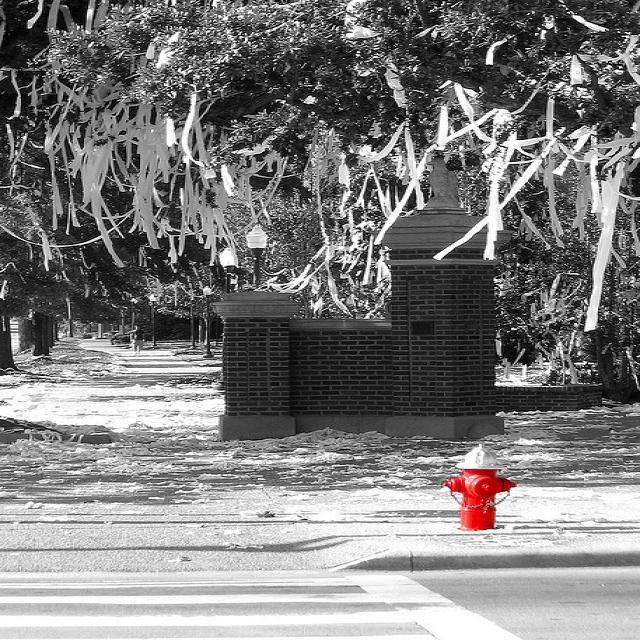fire_hydrant: (438, 442, 518, 530)
